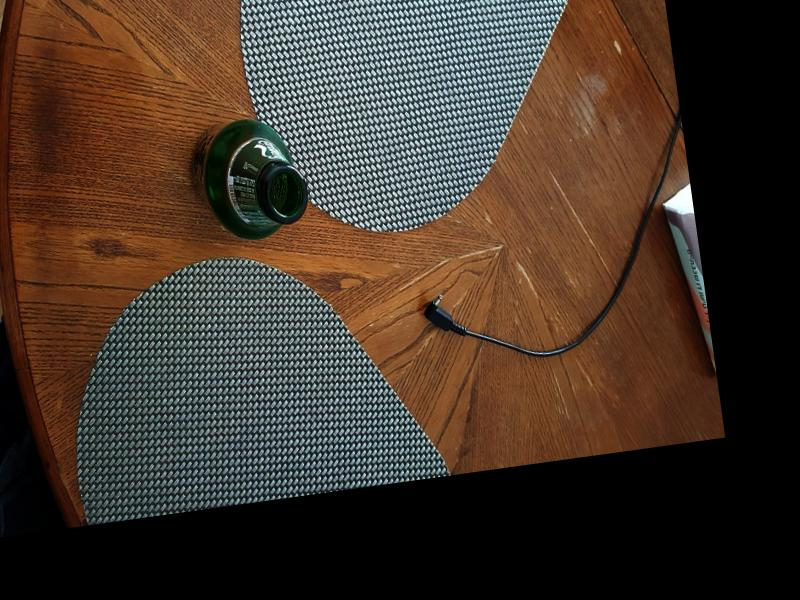Beer: (185, 112, 313, 248)
